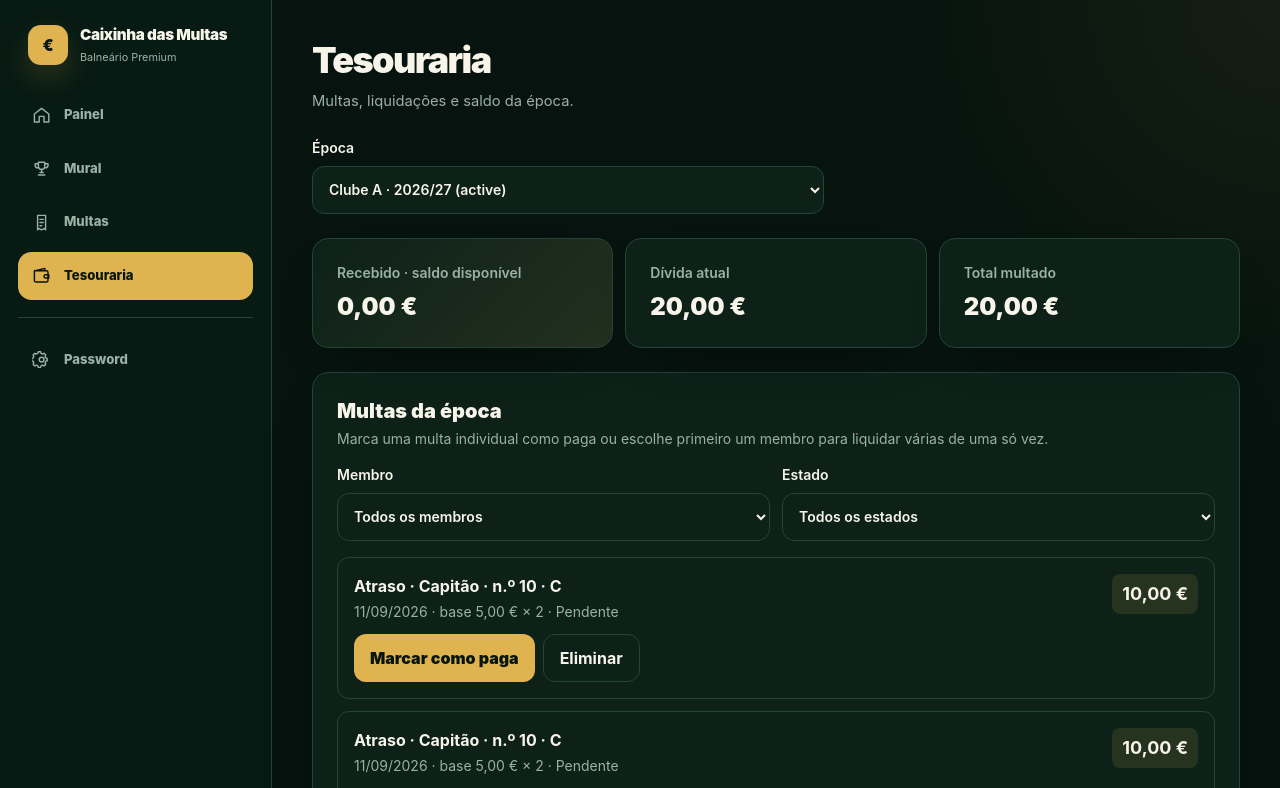
Test: interface de multas e tesouraria › permite marcar uma multa individual como paga sem filtrar primeiro o membro
The image size is (1280, 788).
Expected: the heading "Multas da época" is shown, [337, 399, 502, 423]
Click the 1st button "Marcar como paga". click: (444,658)
box: [354, 634, 535, 682]
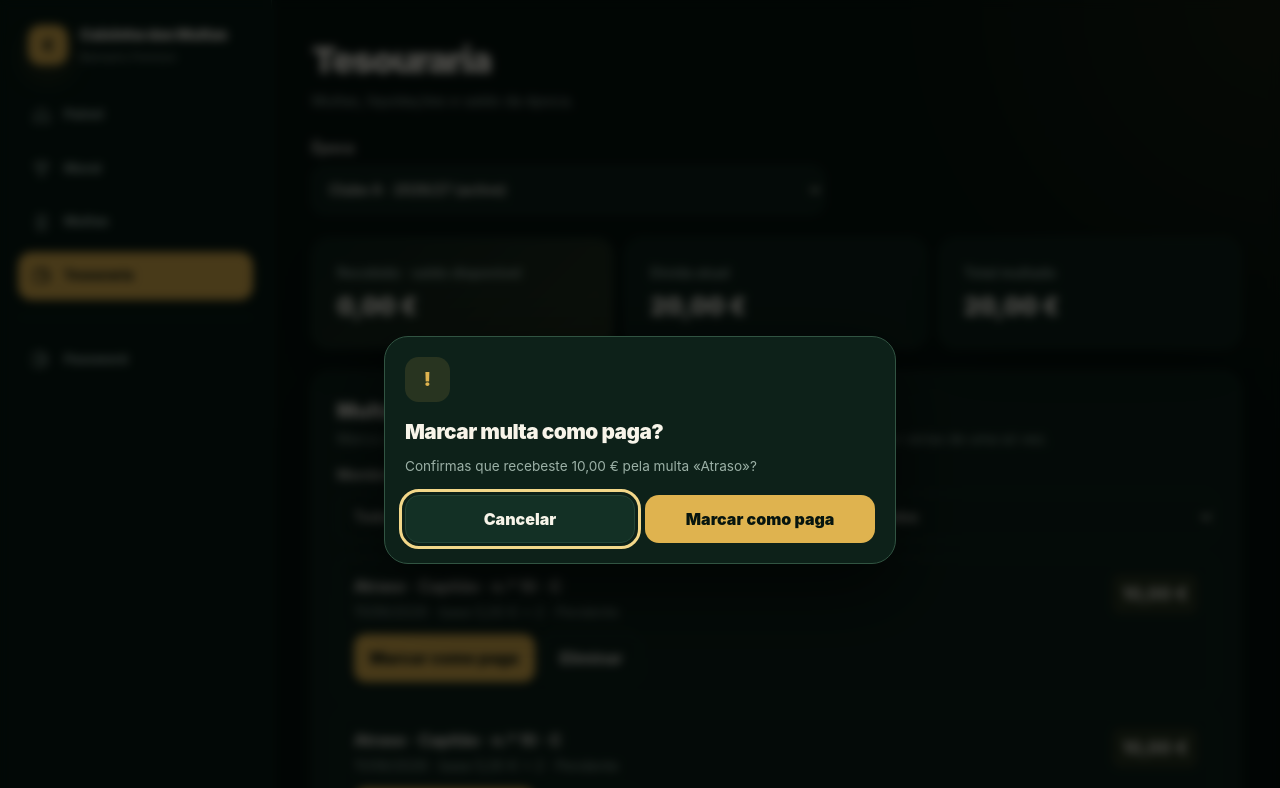
Now the dialog "Marcar multa como paga?" shows "Confirmas que recebeste 10,00", box [405, 458, 757, 474]
Click the button "Marcar como paga". click: (760,519)
box: [645, 495, 875, 543]
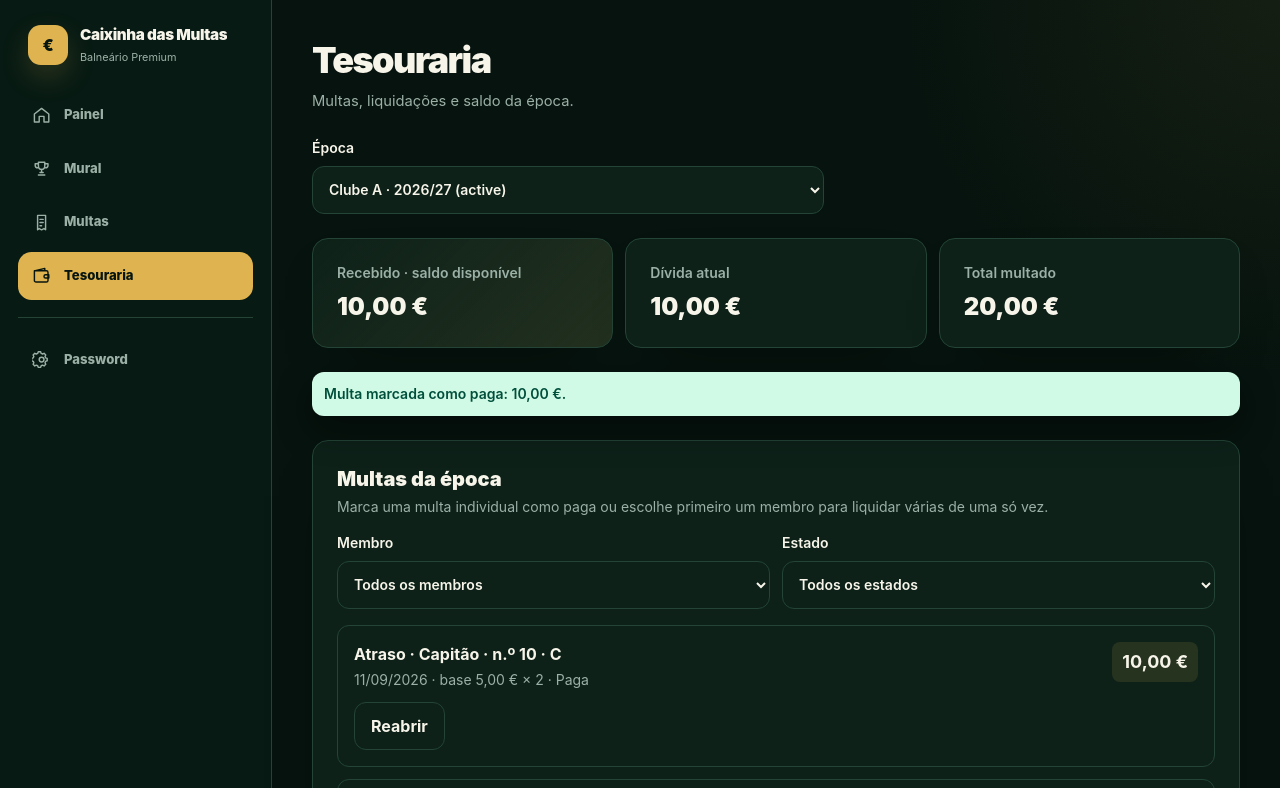
Now the message shows "Multa marcada como paga: 10,00", box [324, 385, 566, 402]
